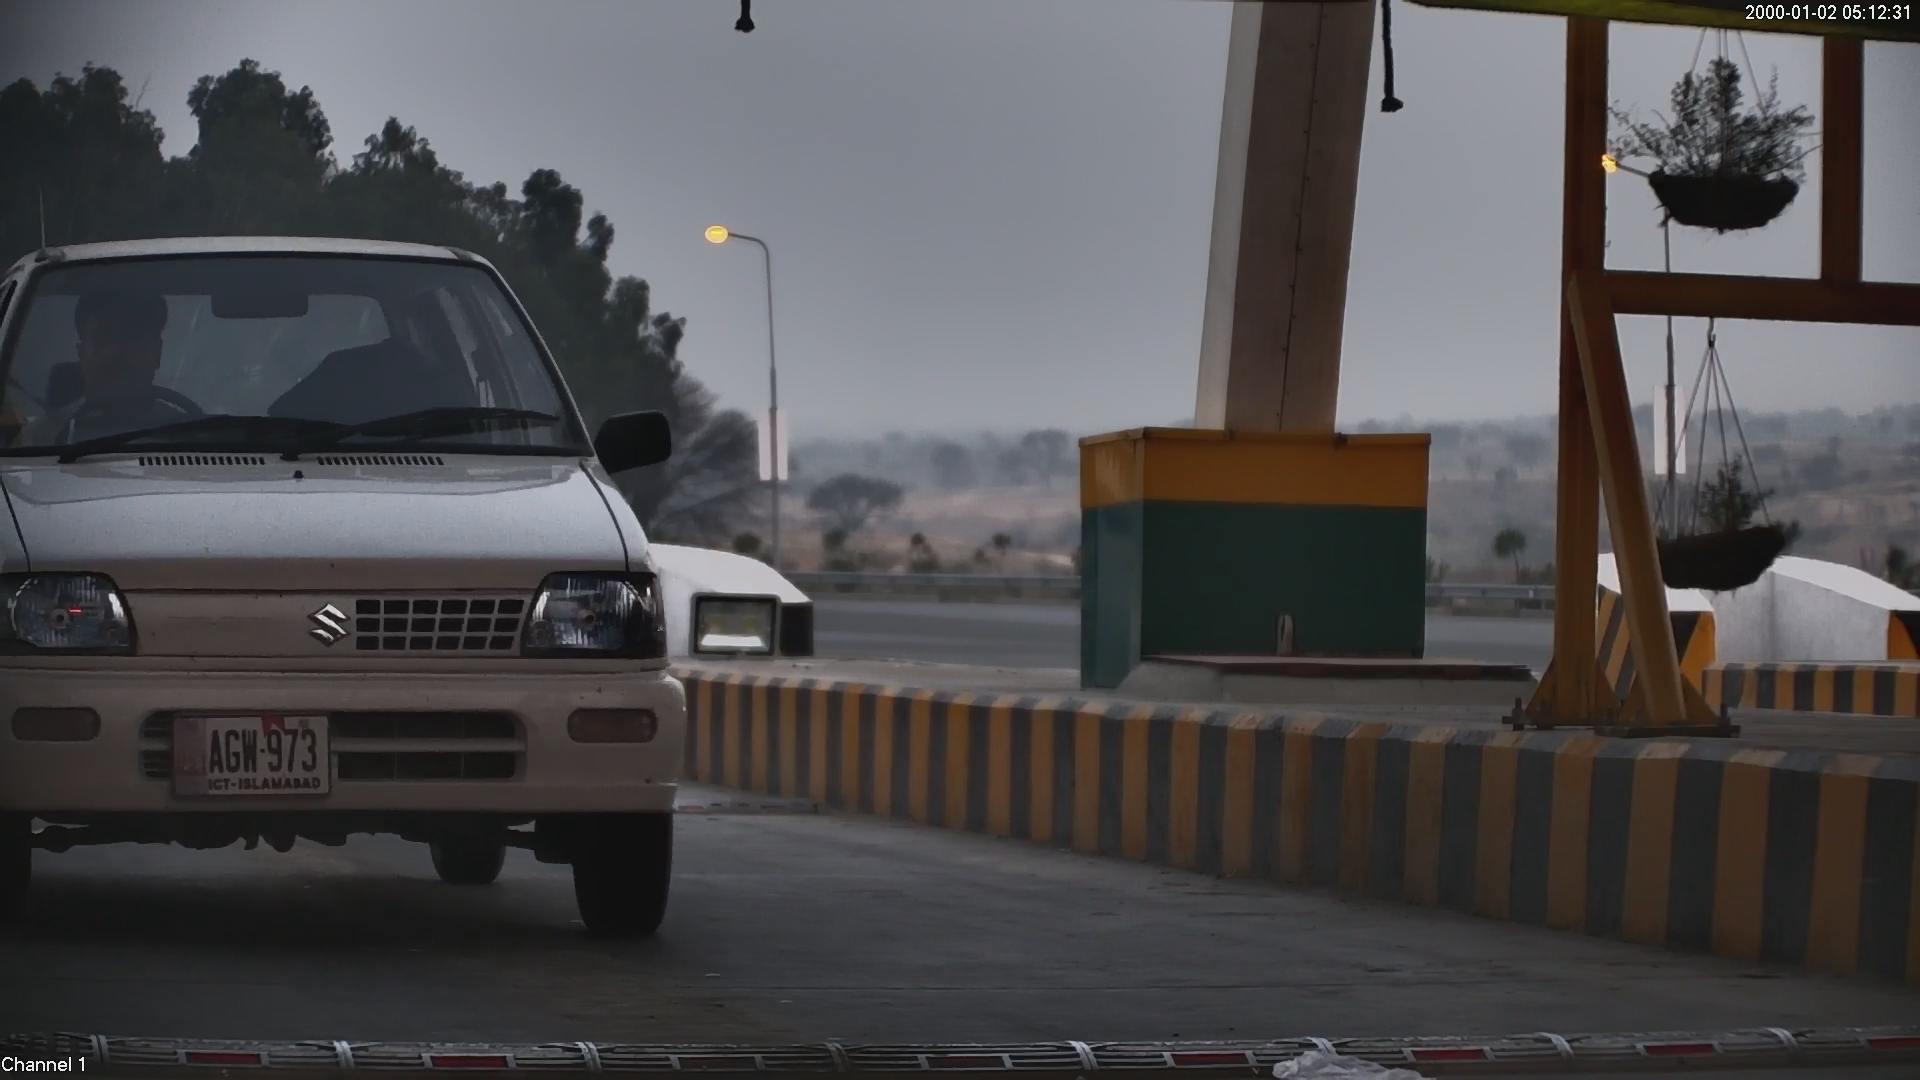Number_Plate: (159, 700, 342, 811)
